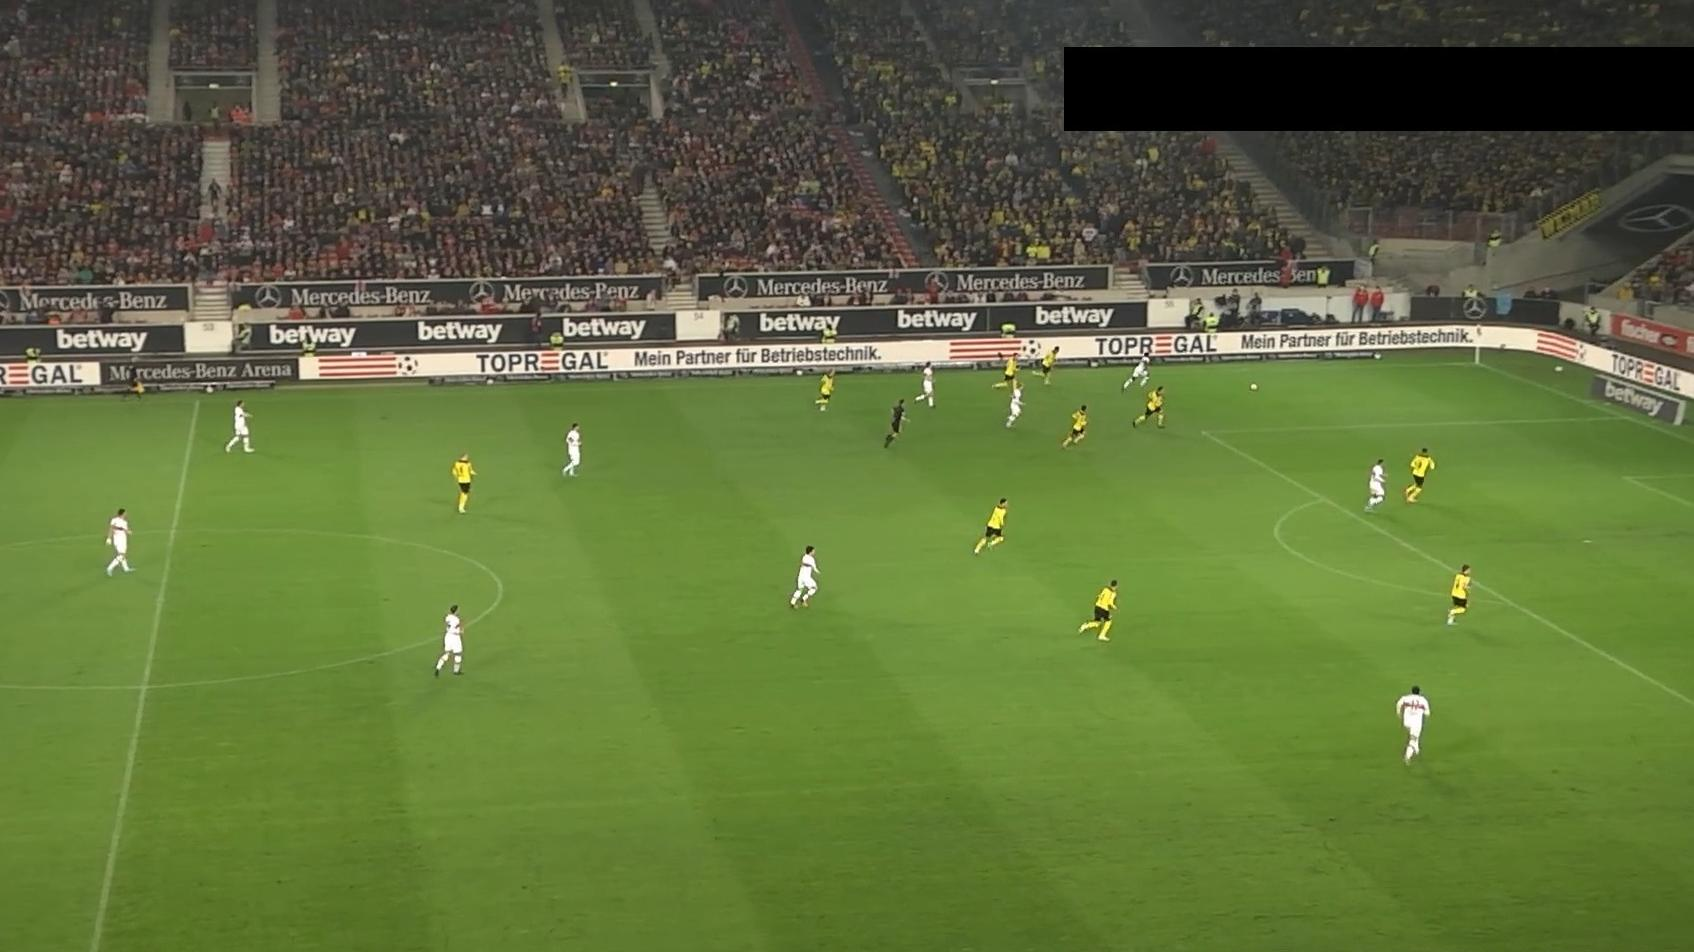ball: (1248, 382, 1259, 392)
